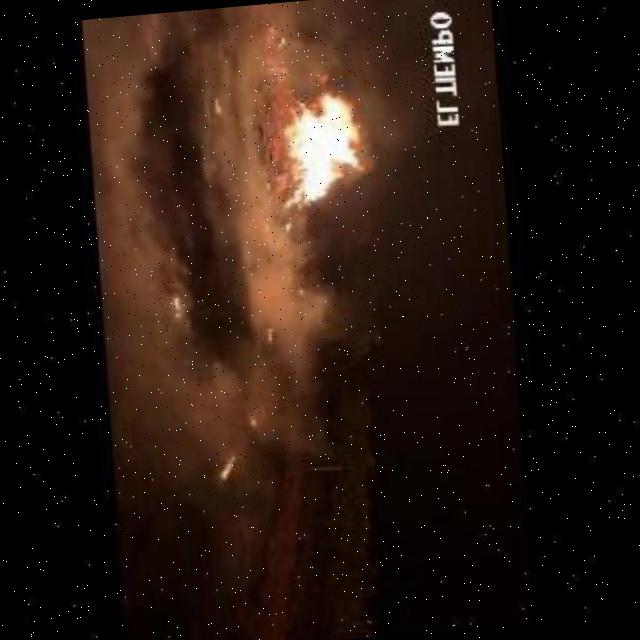fire: (271, 88, 381, 228)
